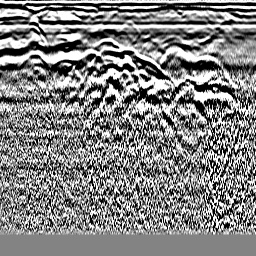cavity: (118, 17, 137, 33)
